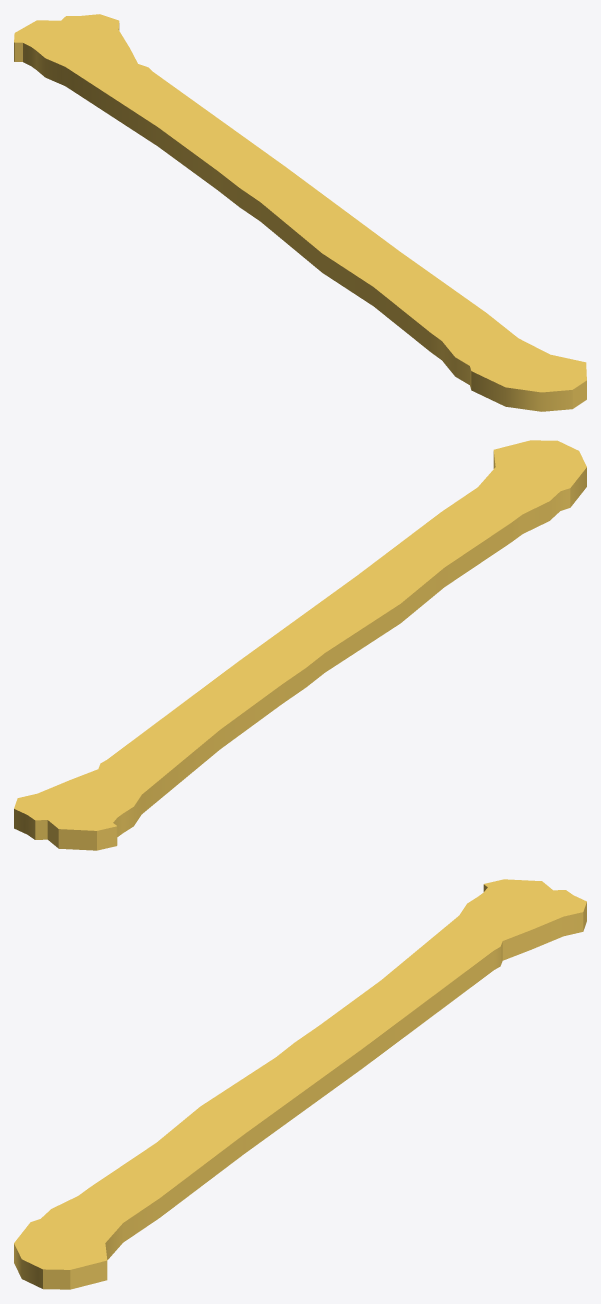
The model's file is original-10.obj.
The picture shows the model from 3 angles, top to bottom: view 1: azimuth 30°, elevation 25°; view 2: azimuth 150°, elevation 25°; view 3: azimuth 330°, elevation 25°; orthographic projection.
Visible parts, largest first — view 1: mesh3/mesh3-geometry#mesh3-geometry; view 2: mesh3/mesh3-geometry#mesh3-geometry; view 3: mesh3/mesh3-geometry#mesh3-geometry.
Boxes of the visible parts, x1=… form: mesh3/mesh3-geometry#mesh3-geometry: x1=14, y1=14, x2=586, y2=411; mesh3/mesh3-geometry#mesh3-geometry: x1=14, y1=440, x2=586, y2=850; mesh3/mesh3-geometry#mesh3-geometry: x1=14, y1=879, x2=586, y2=1289.
Bounding box in the file's own units: 0.00247 × 0.000452 × 0.0217.
